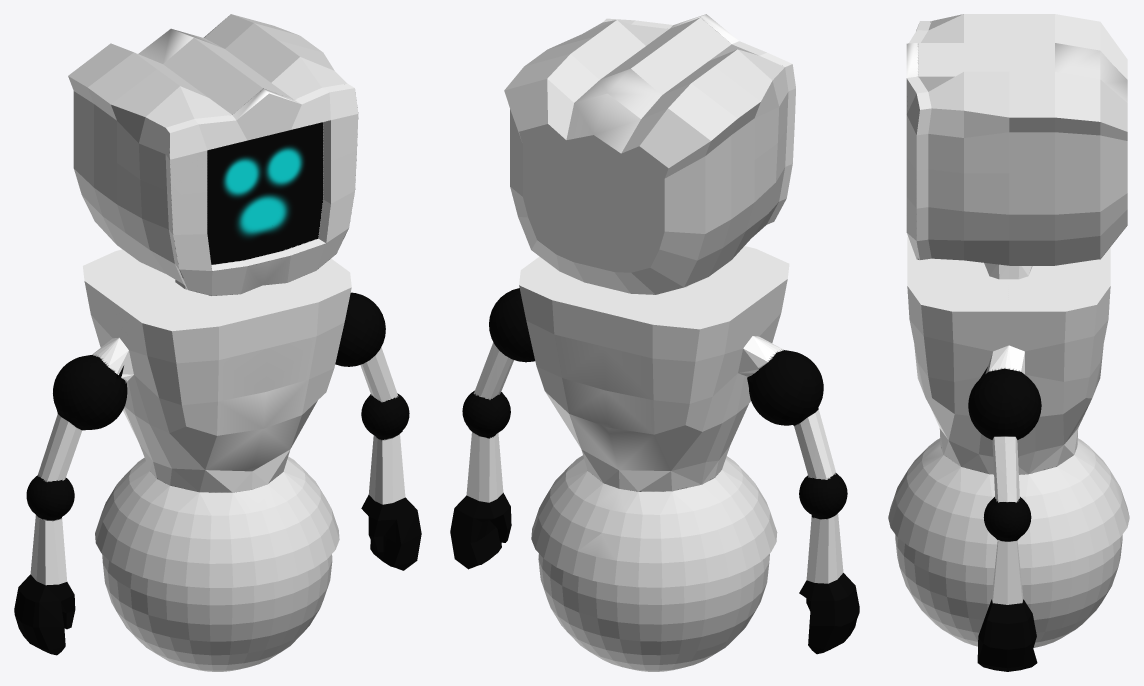
Rendered from robot.glb.
The picture shows the model from 3 angles, left to right: view 1: azimuth 30°, elevation 25°; view 2: azimuth 150°, elevation 25°; view 3: azimuth 270°, elevation 25°; orthographic projection.
Visible parts, largest first — view 1: Sphere.001, Sphere; view 2: Sphere.001, Sphere; view 3: Sphere.001, Sphere.
Boxes of the visible parts, left/top/right/bottom form: Sphere.001: left=14, top=14, right=421, bottom=655; Sphere: left=102, top=554, right=332, bottom=671; Sphere.001: left=450, top=14, right=859, bottom=654; Sphere: left=538, top=554, right=769, bottom=671; Sphere.001: left=888, top=14, right=1129, bottom=671; Sphere: left=895, top=535, right=1122, bottom=647.
Size of the model in its own units: 3.92 by 5.8 by 2.12.
3 materials, 1 textured.
